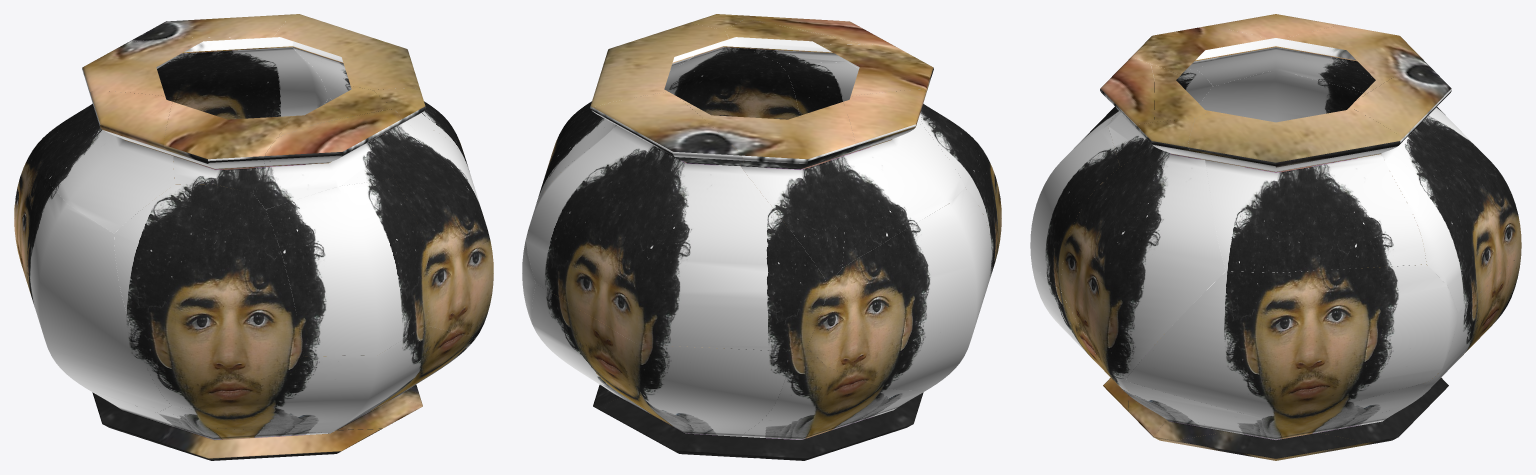
Rendered from vase-1-shards.glb.
The picture shows the model from 3 angles, left to right: view 1: azimuth 30°, elevation 25°; view 2: azimuth 150°, elevation 25°; view 3: azimuth 270°, elevation 25°; orthographic projection.
Visible parts, largest first — view 1: vase-base_cell.006, vase-base_cell.018, vase-base_cell.016, vase-base_cell.007, vase-base_cell.010, vase-base_cell.019, vase-base_cell, vase-base_cell.013, vase-base_cell.015, vase-base_cell.003, vase-base_cell.002, vase-base_cell.014 (+3 smaller); view 2: vase-base_cell.019, vase-base_cell.016, vase-base_cell.017, vase-base_cell, vase-base_cell.003, vase-base_cell.009, vase-base_cell.010, vase-base_cell.013, vase-base_cell.006, vase-base_cell.015, vase-base_cell.018, vase-base_cell.014 (+4 smaller); view 3: vase-base_cell.012, vase-base_cell.013, vase-base_cell.010, vase-base_cell.019, vase-base_cell.008, vase-base_cell, vase-base_cell.018, vase-base_cell.016, vase-base_cell.003, vase-base_cell.017, vase-base_cell.015, vase-base_cell.005 (+6 smaller).
Boxes of the visible parts, box(x1,y1,x2,y2) form: vase-base_cell.006: box(114, 184, 303, 409); vase-base_cell.018: box(266, 178, 428, 356); vase-base_cell.016: box(14, 165, 170, 412); vase-base_cell.007: box(163, 325, 476, 433); vase-base_cell.010: box(373, 88, 493, 336); vase-base_cell.019: box(20, 14, 328, 196); vase-base_cell: box(34, 91, 174, 233); vase-base_cell.013: box(273, 14, 462, 154); vase-base_cell.015: box(164, 102, 292, 192); vase-base_cell.003: box(26, 37, 253, 167); vase-base_cell.002: box(156, 410, 395, 460); vase-base_cell.014: box(253, 127, 395, 209); vase-base_cell.019: box(525, 92, 828, 351); vase-base_cell.016: box(807, 187, 992, 390); vase-base_cell.017: box(532, 284, 792, 456); vase-base_cell: box(842, 90, 964, 267); vase-base_cell.003: box(680, 98, 854, 285); vase-base_cell.009: box(740, 348, 926, 460); vase-base_cell.010: box(664, 14, 799, 175); vase-base_cell.013: box(535, 23, 728, 207); vase-base_cell.006: box(920, 103, 1001, 281); vase-base_cell.015: box(820, 44, 933, 124); vase-base_cell.018: box(779, 62, 896, 115); vase-base_cell.014: box(751, 38, 859, 68); vase-base_cell.012: box(1125, 264, 1457, 421); vase-base_cell.013: box(1188, 107, 1426, 272); vase-base_cell.010: box(1061, 119, 1225, 381); vase-base_cell.019: box(1350, 62, 1521, 313); vase-base_cell.008: box(1122, 381, 1429, 460); vase-base_cell: box(1196, 14, 1375, 92); vase-base_cell.018: box(1030, 109, 1119, 292); vase-base_cell.016: box(1188, 69, 1404, 282); vase-base_cell.003: box(1283, 26, 1424, 100); vase-base_cell.017: box(1387, 254, 1521, 431); vase-base_cell.015: box(1130, 26, 1268, 75); vase-base_cell.005: box(1153, 406, 1403, 448).
Bounding box in the file's own units: 13.58 × 9.6 × 13.58.
Materials: 1 (1 with a texture image).
